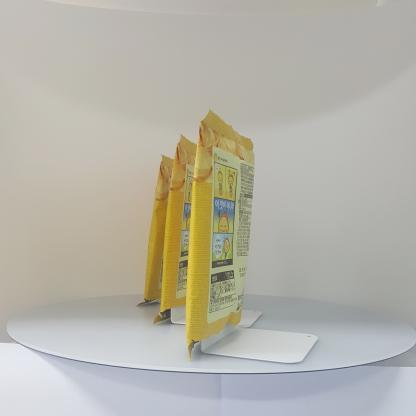Plastic Packaging: (132, 100, 268, 384)
